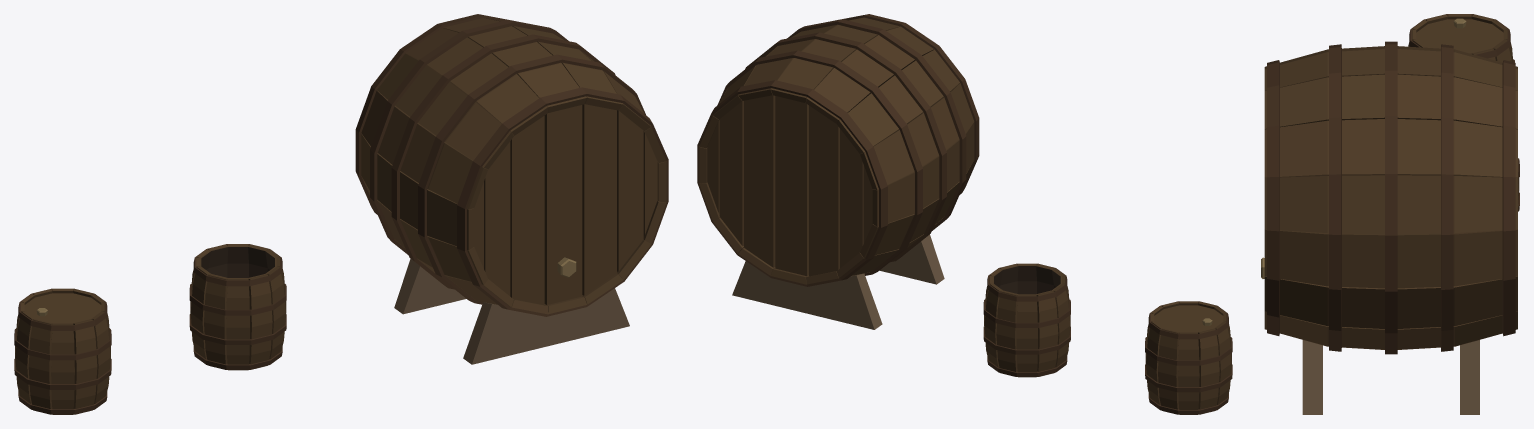
Rendered from oakBarrel.glb.
3 renders of one model, left to right at view 1: azimuth 30°, elevation 25°; view 2: azimuth 150°, elevation 25°; view 3: azimuth 270°, elevation 25°, orthographic. The views are drawn at different scales.
Visible parts, largest first — view 1: Barrel_Big, Barrel_Open, Barrel_Closed; view 2: Barrel_Big, Barrel_Open, Barrel_Closed; view 3: Barrel_Big, Barrel_Closed.
Boxes of the visible parts, x1,y1,x2,y2 form: Barrel_Big: (355,14,668,364); Barrel_Open: (189,244,286,370); Barrel_Closed: (14,288,111,414); Barrel_Big: (697,14,979,329); Barrel_Open: (983,263,1070,377); Barrel_Closed: (1145,301,1232,414); Barrel_Big: (1261,41,1517,414); Barrel_Closed: (1408,14,1514,62).
Size of the model in its own units: 6.16 by 2.79 by 2.09.
Materials: 2 (2 with a texture image).
